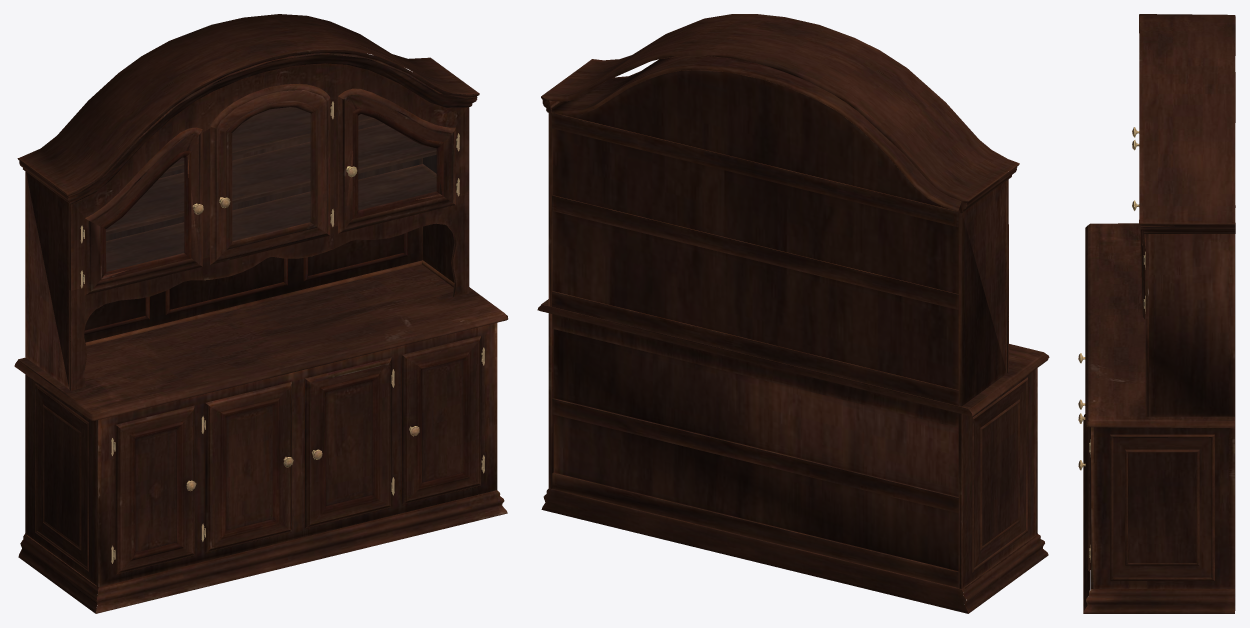
The model's file is vintage_cabinet_01.glb.
The picture shows the model from 3 angles, left to right: view 1: azimuth 30°, elevation 25°; view 2: azimuth 150°, elevation 25°; view 3: azimuth 270°, elevation 25°; orthographic projection. The views are drawn at different scales.
Visible parts, largest first — view 1: vintage_cabinet_01; view 2: vintage_cabinet_01; view 3: vintage_cabinet_01.
Boxes of the visible parts, x1,y1,x2,y2 form: vintage_cabinet_01: (14,14,508,613); vintage_cabinet_01: (537,14,1049,613); vintage_cabinet_01: (1078,14,1235,613).
Size of the model in its own units: 2.02 by 2.24 by 0.6706.
3 materials, 2 textured.
